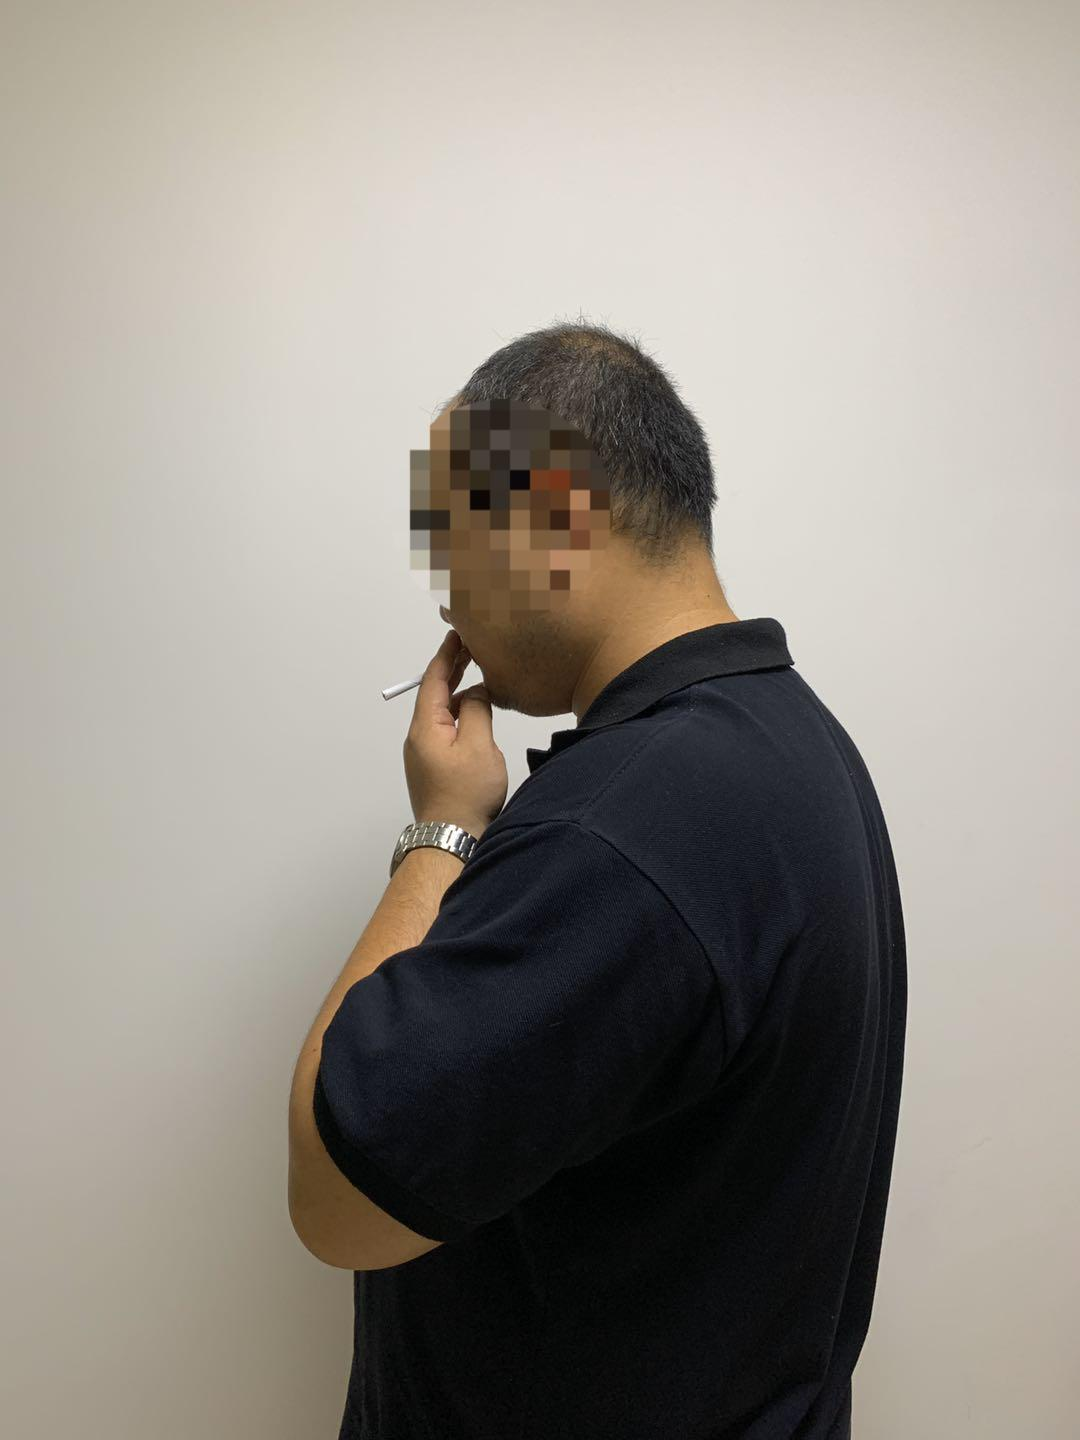smoke: (374, 674, 422, 703)
